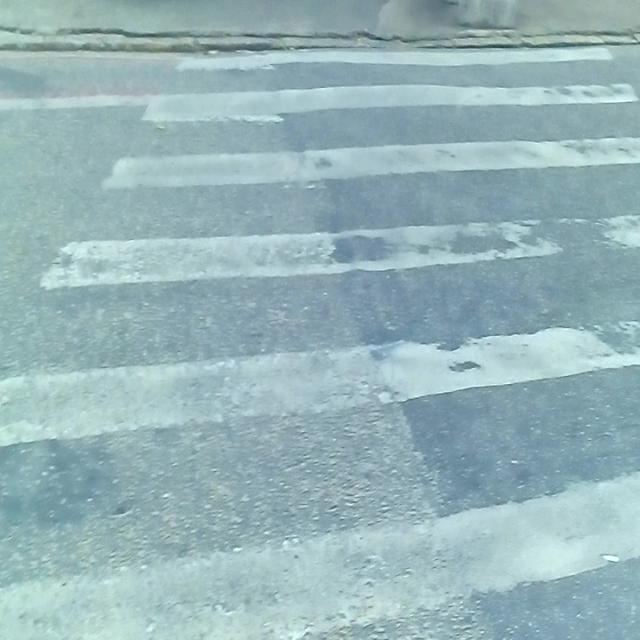crosswalk: (0, 43, 640, 640)
